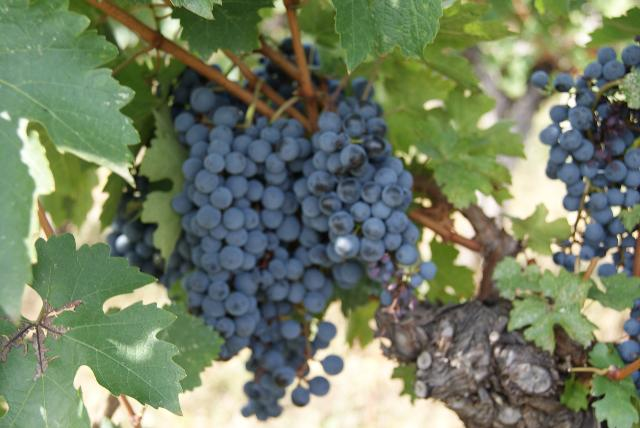grapes: (249, 90, 436, 418), (164, 70, 304, 381), (540, 38, 640, 280), (618, 299, 640, 364)
